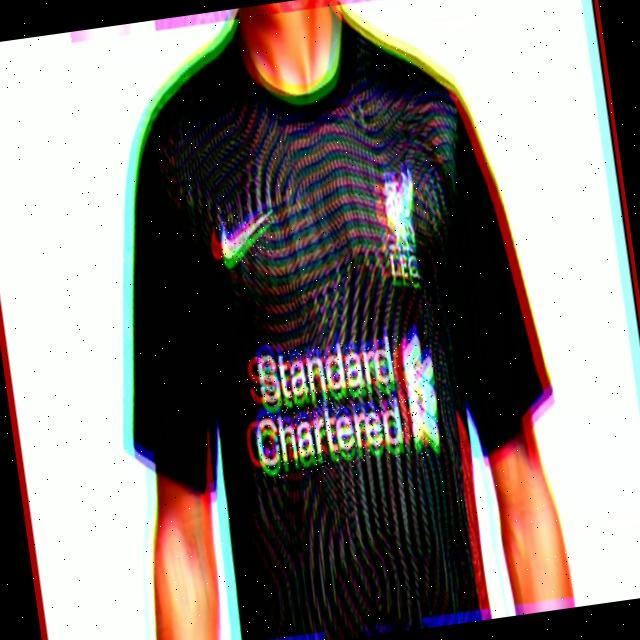Nike: (214, 209, 275, 264)
Standard Chartered: (246, 332, 443, 481)
